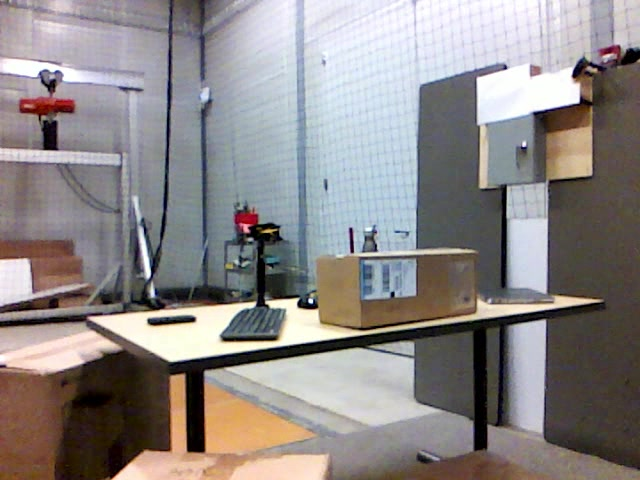box: (1, 328, 171, 480), (317, 250, 478, 331), (110, 446, 331, 480)
